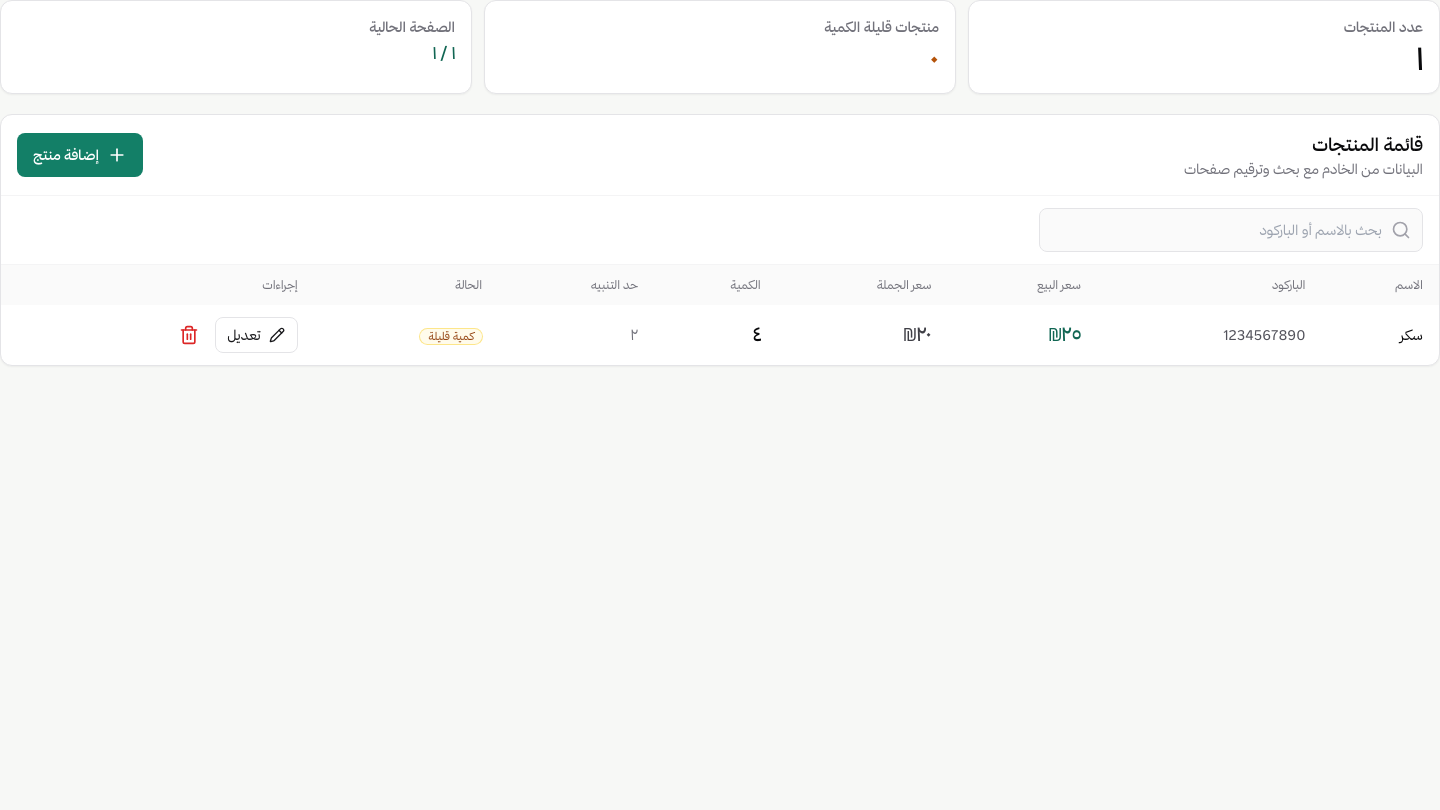
Test: ProductsPage carton entry › shows optional carton data controls when adding a product
The width and height of the screenshot is (1440, 810).
Step 1. Click the button "إضافة منتج" → (80,155), box [17,133,143,177]
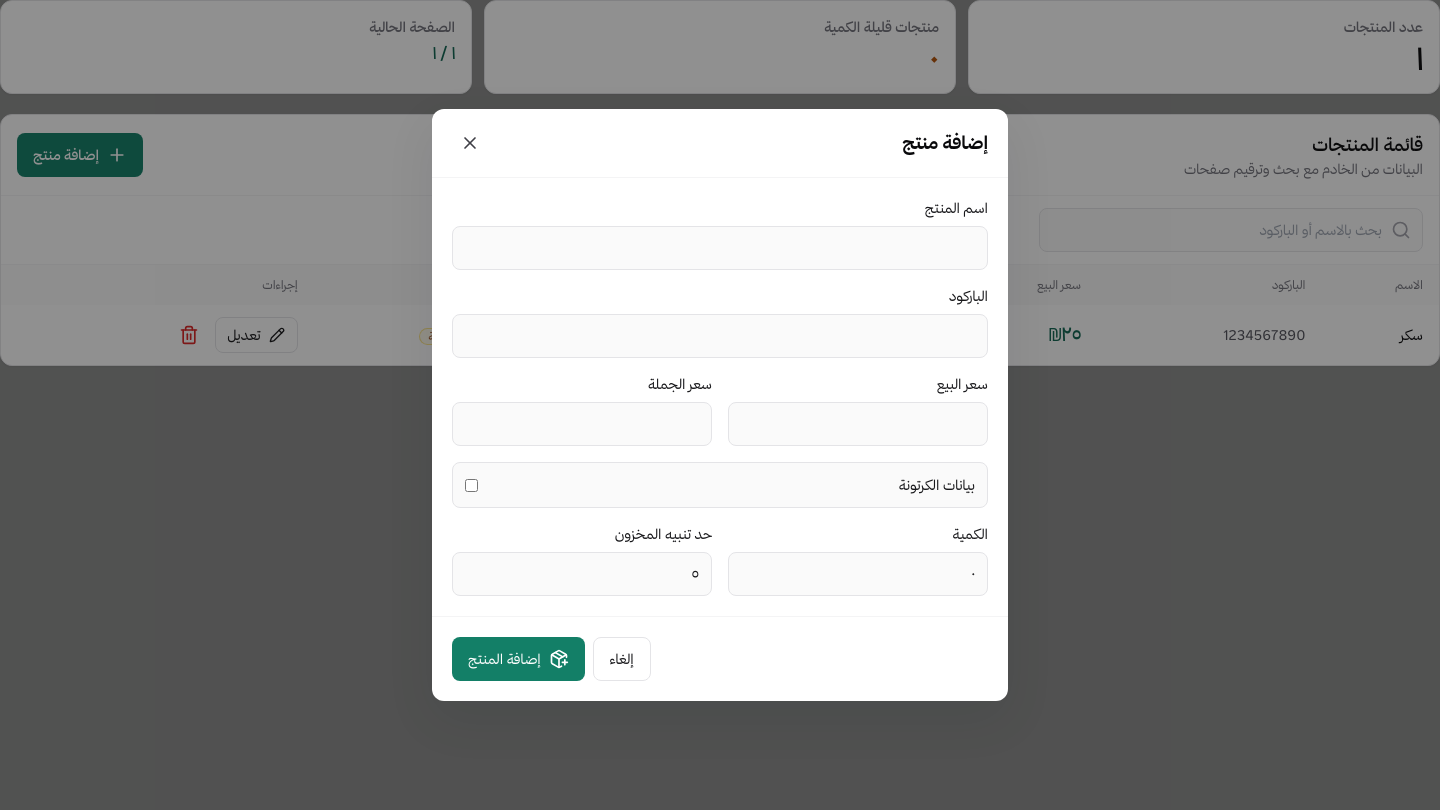
Expected: the text "بيانات الكرتونة" is shown, [899,475,975,495]
